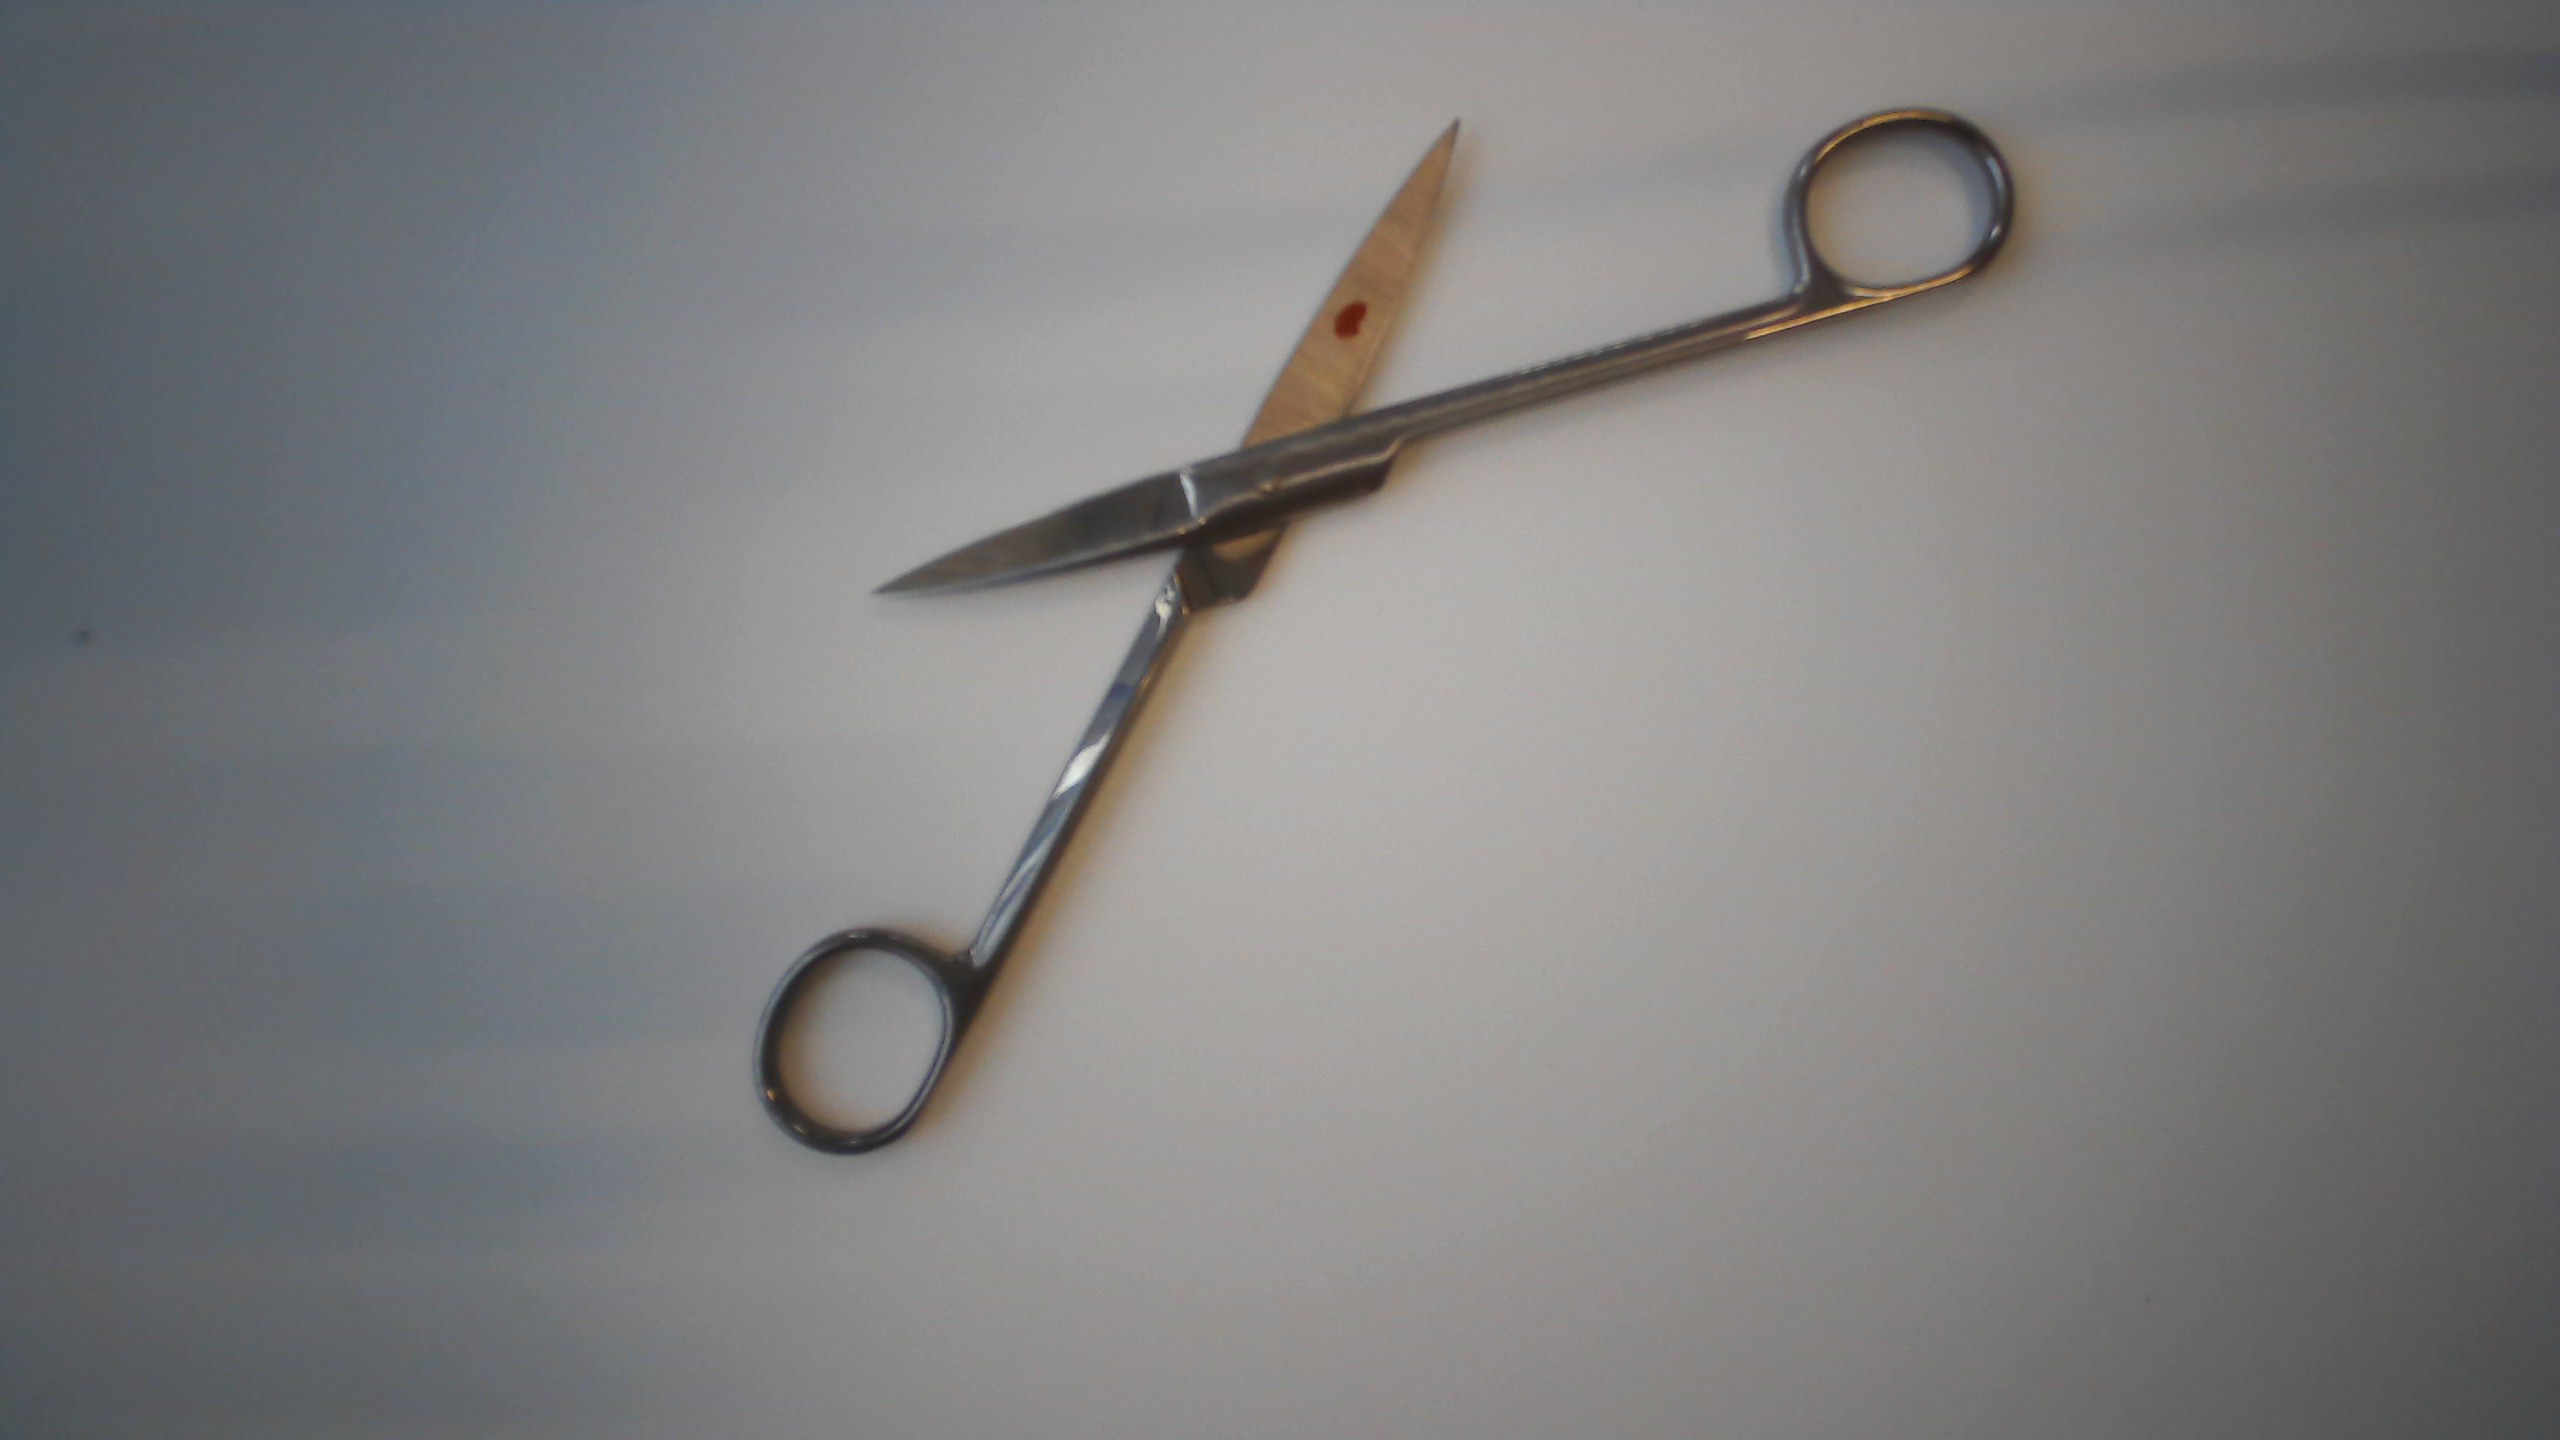Stain: (1326, 280, 1371, 348)
